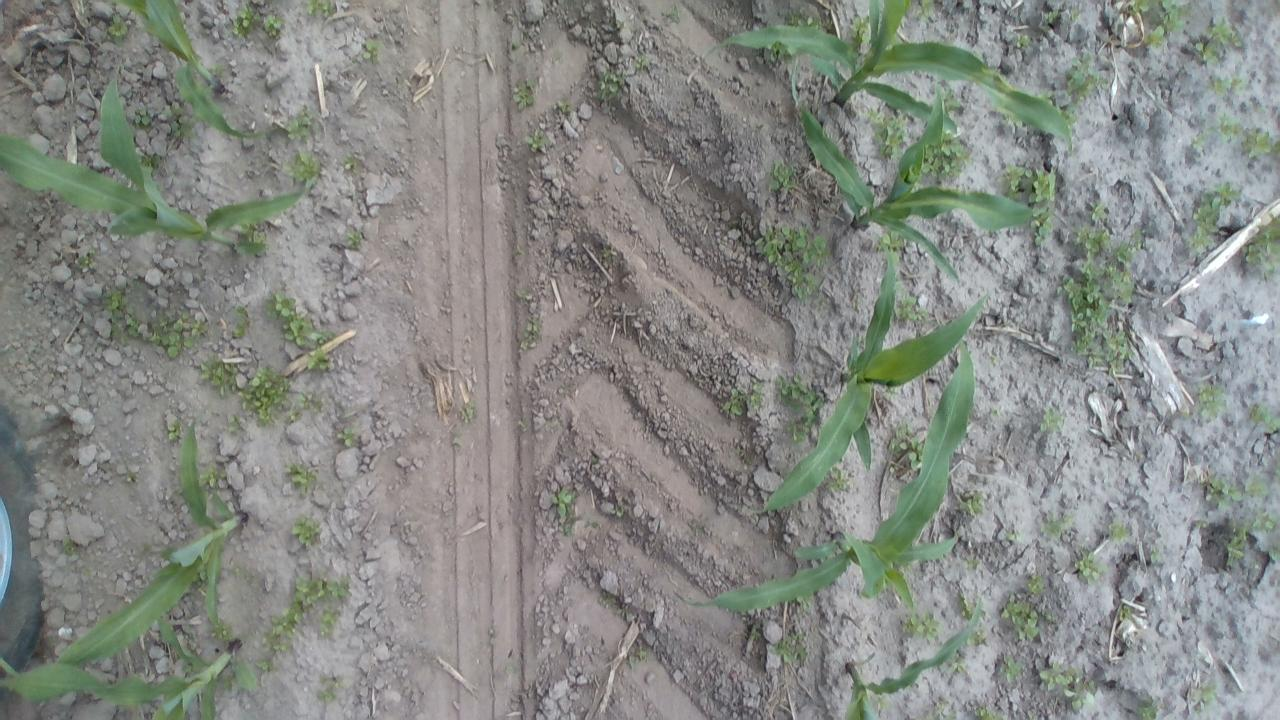Maize: (684, 336, 979, 616), (12, 418, 254, 688), (760, 244, 986, 524), (787, 55, 1051, 282), (700, 0, 1082, 156), (0, 71, 315, 251), (0, 619, 262, 718), (113, 0, 277, 141), (842, 589, 986, 717)
Weeds: (262, 568, 356, 650), (1056, 260, 1110, 360), (759, 222, 828, 300), (1108, 222, 1152, 308), (240, 364, 298, 429), (1188, 181, 1239, 253), (776, 374, 826, 444), (1126, 0, 1186, 50), (266, 290, 318, 346), (146, 314, 210, 359), (1039, 660, 1097, 708), (1002, 164, 1058, 204), (921, 134, 971, 178), (104, 290, 145, 342), (889, 420, 926, 476), (1063, 56, 1107, 103), (1243, 218, 1277, 278), (868, 110, 909, 158), (1002, 594, 1041, 642), (1096, 329, 1132, 371), (200, 359, 238, 397), (550, 487, 580, 535), (902, 610, 944, 642), (594, 586, 633, 620), (1072, 546, 1106, 582), (1207, 474, 1241, 510), (285, 461, 319, 496), (228, 1, 260, 38), (1194, 382, 1224, 420), (286, 149, 318, 183), (1241, 128, 1275, 160), (1240, 471, 1274, 503), (1212, 16, 1242, 52), (1194, 28, 1224, 64), (289, 515, 322, 547), (896, 292, 929, 324), (774, 630, 807, 662), (1074, 226, 1113, 253), (966, 694, 1006, 720), (1226, 522, 1250, 565), (1040, 512, 1076, 540), (785, 8, 835, 28), (290, 389, 320, 422), (286, 108, 316, 140), (768, 160, 798, 192), (1248, 400, 1276, 434), (162, 106, 192, 137), (918, 697, 958, 720), (1032, 208, 1056, 246), (1210, 73, 1248, 96), (1036, 406, 1066, 435), (727, 440, 756, 470), (511, 78, 536, 112), (229, 558, 257, 588), (624, 640, 650, 672), (239, 223, 268, 251), (319, 605, 342, 639), (597, 68, 623, 98), (724, 388, 749, 419), (316, 676, 342, 704), (746, 383, 768, 416), (877, 230, 904, 256), (1000, 653, 1024, 682), (1216, 114, 1239, 144), (232, 304, 250, 342), (959, 491, 986, 516), (1193, 682, 1217, 710), (506, 27, 532, 52), (850, 14, 870, 46), (201, 464, 226, 489), (304, 346, 328, 372), (1252, 508, 1276, 534), (687, 517, 713, 541), (105, 15, 128, 42), (1106, 520, 1133, 542), (522, 318, 540, 350), (1012, 28, 1036, 52), (724, 209, 746, 235), (939, 88, 962, 112), (827, 469, 850, 493), (212, 618, 234, 643), (1059, 101, 1081, 126), (1134, 698, 1161, 718), (306, 0, 336, 18), (584, 450, 604, 477), (450, 423, 470, 450), (130, 102, 150, 129), (1024, 572, 1048, 594), (769, 42, 791, 66), (792, 596, 816, 618), (1001, 524, 1025, 546), (956, 585, 971, 620), (980, 348, 1004, 369), (1148, 538, 1166, 566), (310, 326, 337, 344), (262, 14, 284, 36), (362, 36, 380, 62), (77, 248, 98, 270), (1086, 201, 1109, 221), (524, 130, 545, 151), (337, 428, 359, 448), (226, 411, 246, 433), (984, 403, 1004, 424), (59, 538, 81, 557), (606, 499, 628, 518), (746, 618, 762, 644), (847, 290, 864, 314), (916, 0, 936, 20), (1264, 537, 1280, 562), (514, 415, 532, 437), (140, 150, 162, 168), (1190, 131, 1207, 154), (513, 287, 536, 304), (258, 656, 278, 675), (1043, 8, 1062, 28), (118, 466, 140, 483), (1070, 2, 1086, 25), (968, 628, 988, 646), (1116, 604, 1134, 624), (346, 228, 364, 248), (166, 419, 183, 440), (665, 4, 683, 23), (634, 52, 651, 72), (461, 401, 476, 423), (342, 154, 360, 172), (1271, 448, 1280, 484), (1174, 408, 1193, 425), (1036, 88, 1055, 105), (874, 694, 890, 714), (510, 242, 526, 261), (554, 98, 572, 114), (950, 659, 968, 675), (1190, 516, 1208, 532), (962, 555, 980, 570), (1040, 607, 1055, 625), (486, 627, 498, 646), (814, 299, 830, 313), (601, 245, 615, 260), (614, 18, 627, 33), (503, 664, 518, 677), (1086, 355, 1097, 372), (130, 277, 142, 290)
